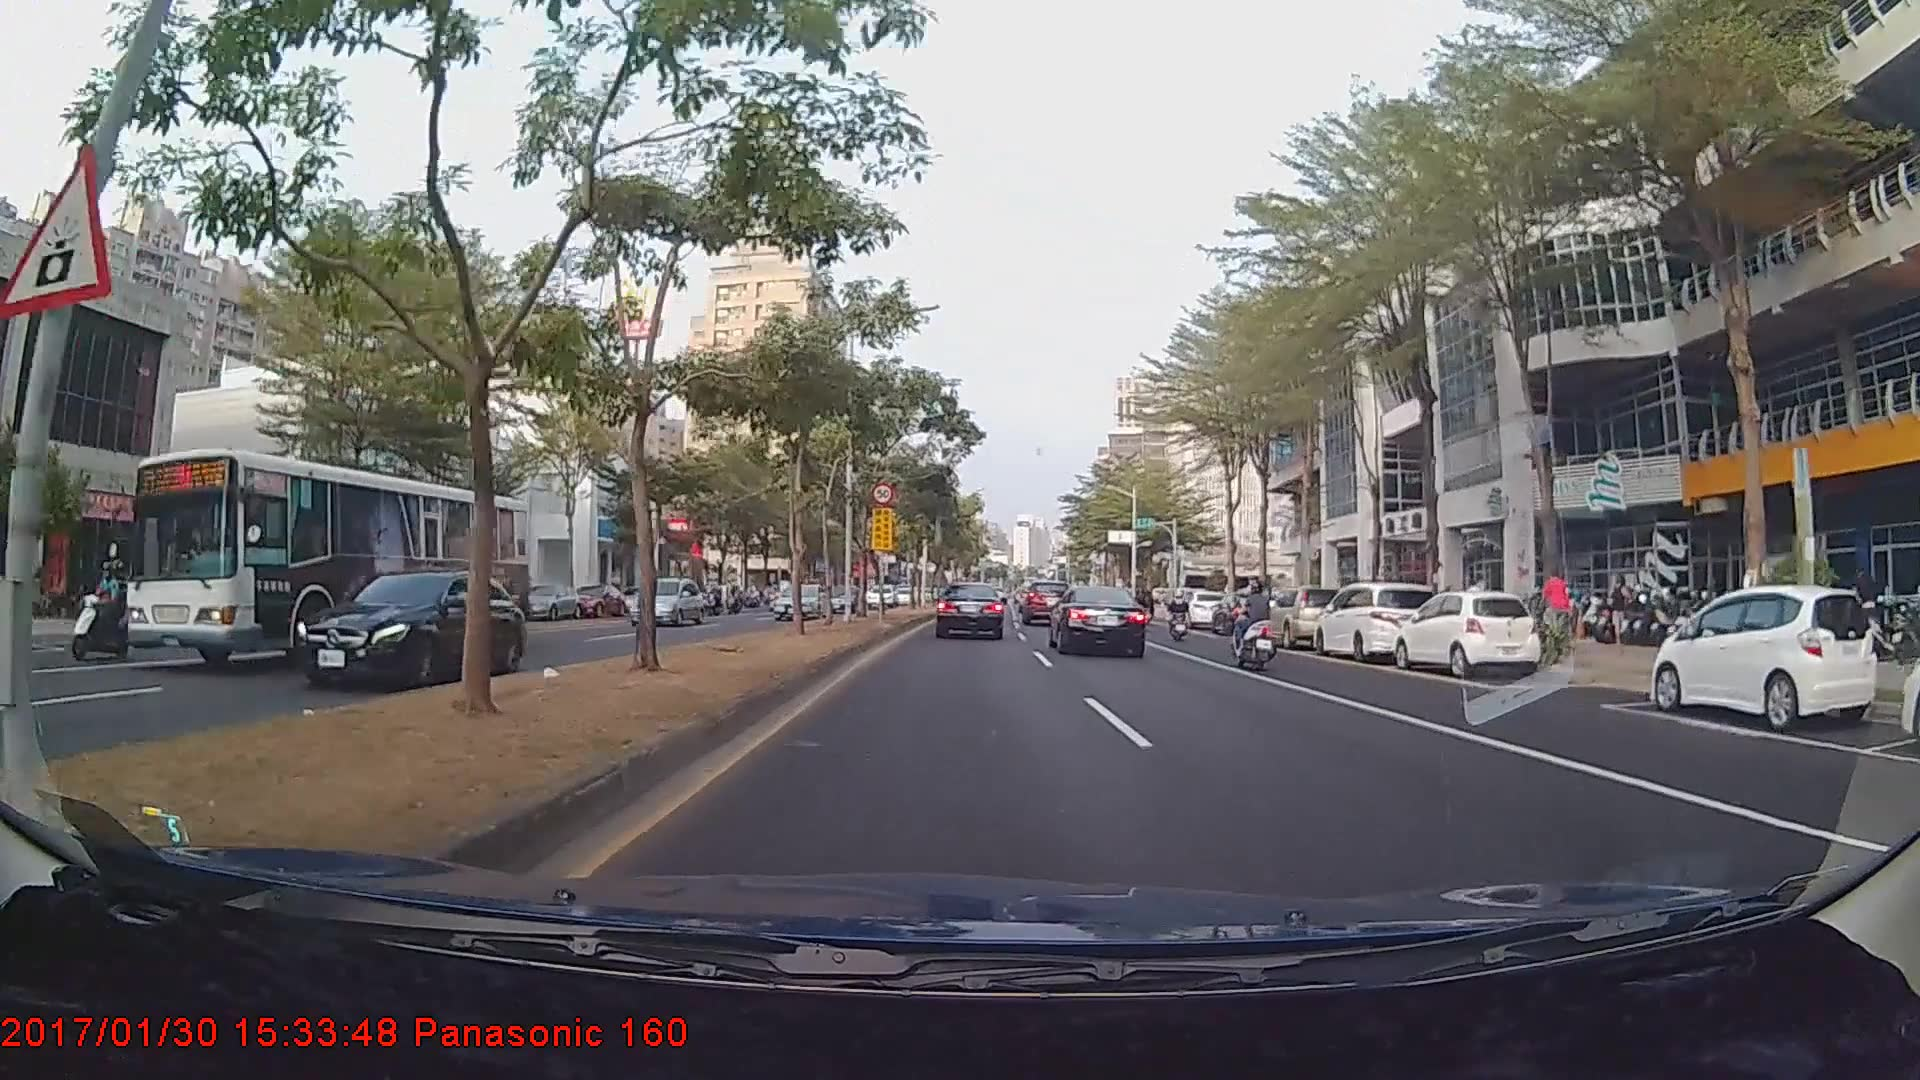rider: (1225, 582, 1291, 672), (1532, 567, 1583, 659), (1164, 586, 1194, 644)
vehicle: (123, 445, 532, 672), (1648, 581, 1867, 726), (289, 566, 527, 689), (1395, 588, 1539, 679), (1317, 581, 1437, 665), (1050, 582, 1148, 657), (1259, 586, 1351, 650), (934, 580, 1006, 641), (628, 574, 702, 625), (1021, 582, 1070, 627), (1176, 589, 1231, 628), (774, 583, 827, 619)
